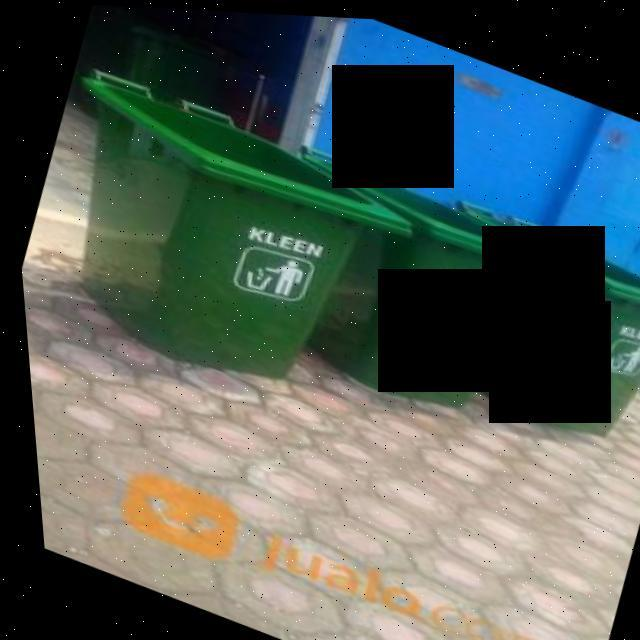bin: (3, 50, 437, 437)
